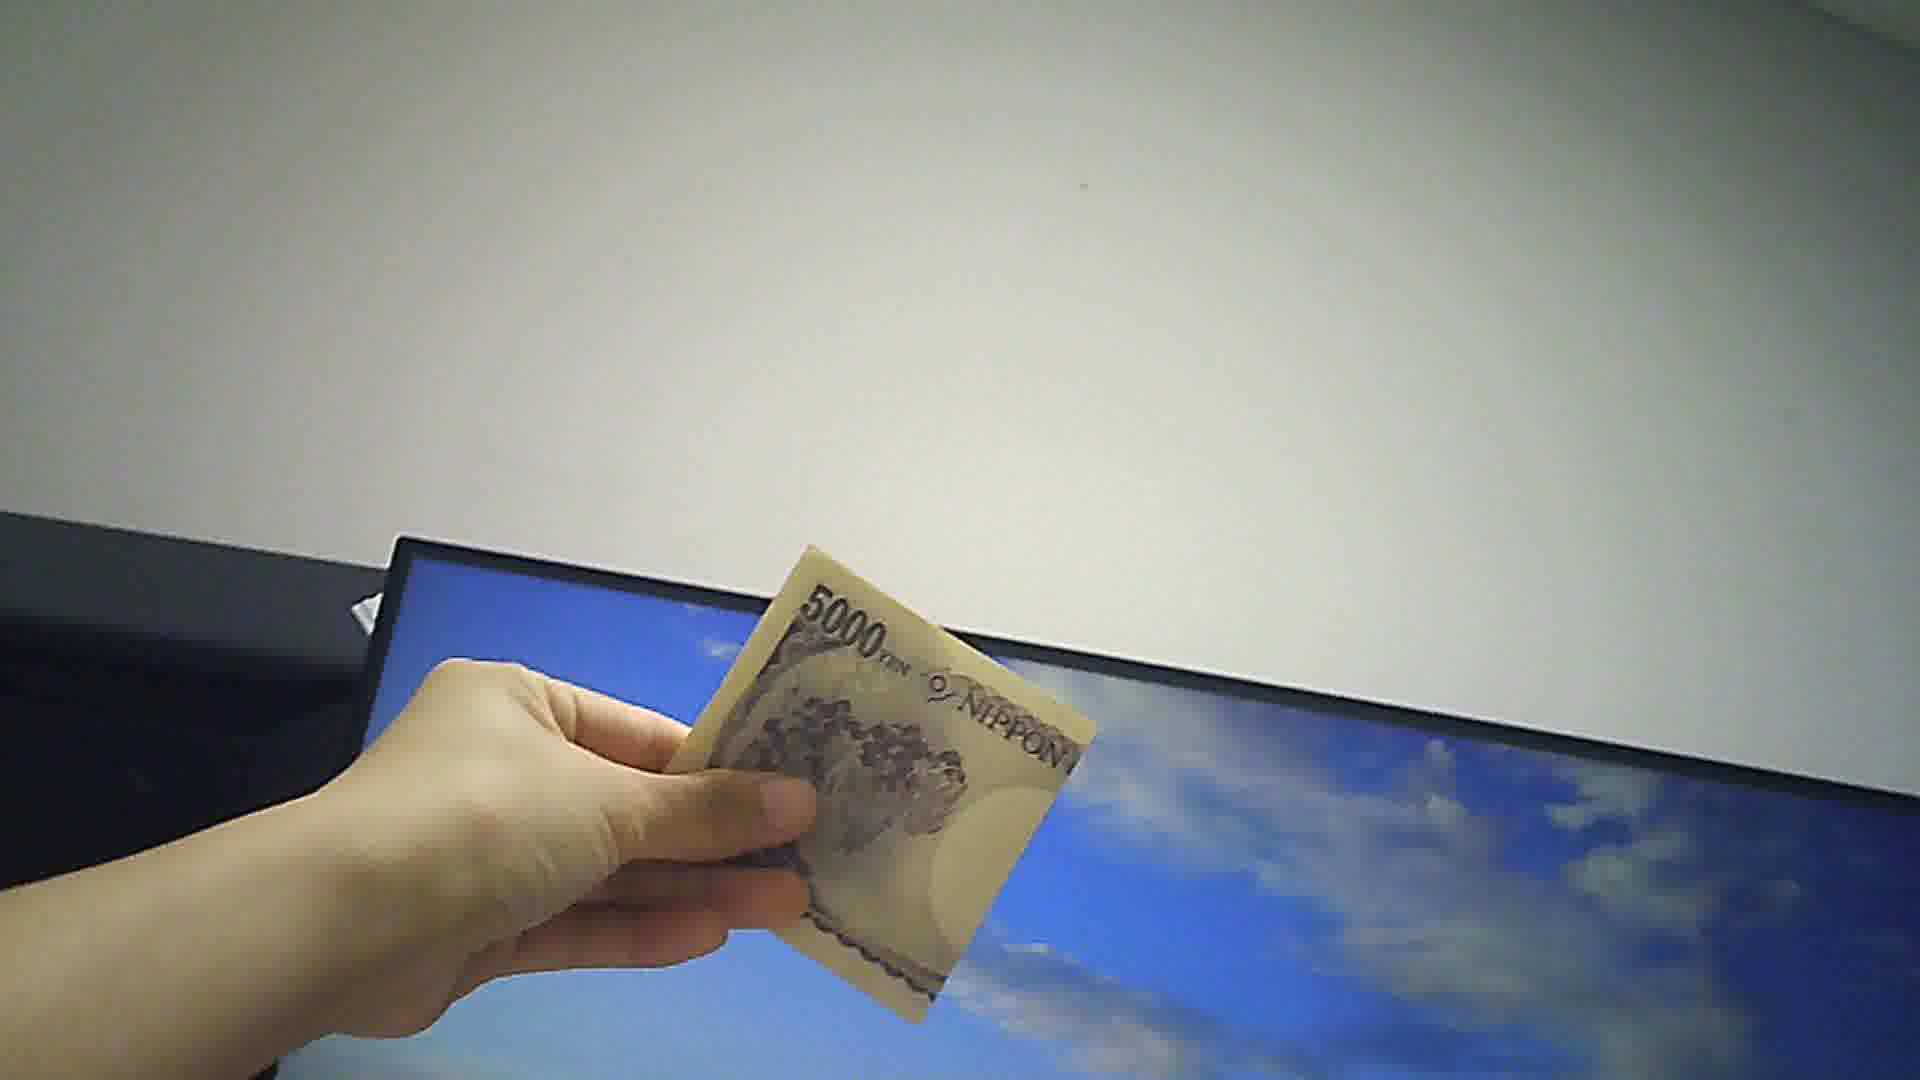5,000 Yen: (634, 531, 1095, 996)
